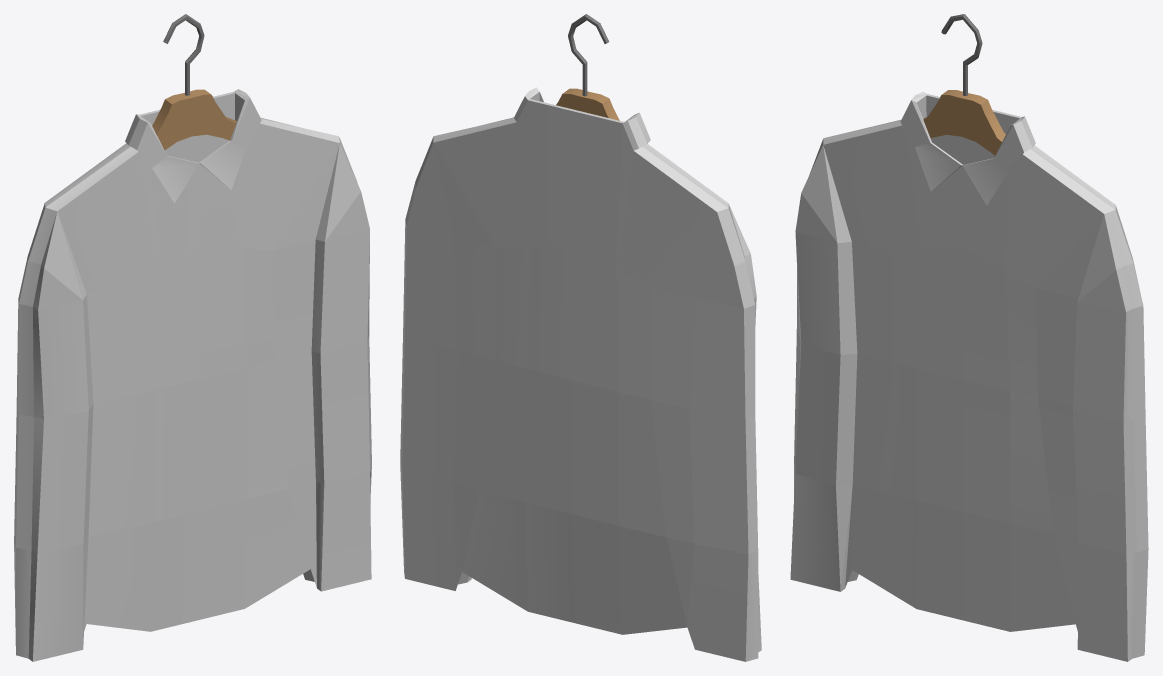
The model's file is Vetement.fbx.
3 views of the same model, side by side, from view 1: azimuth 30°, elevation 25°; view 2: azimuth 150°, elevation 25°; view 3: azimuth 330°, elevation 25° (orthographic).
Visible parts, largest first — view 1: Vetement; view 2: Vetement; view 3: Vetement.
Part boxes in pixels (box(x1,y1,x2,y2)): Vetement: box(14, 14, 371, 661); Vetement: box(400, 14, 761, 661); Vetement: box(790, 14, 1148, 661).
Size of the model in its own units: 50.88 by 82.38 by 5.44.
